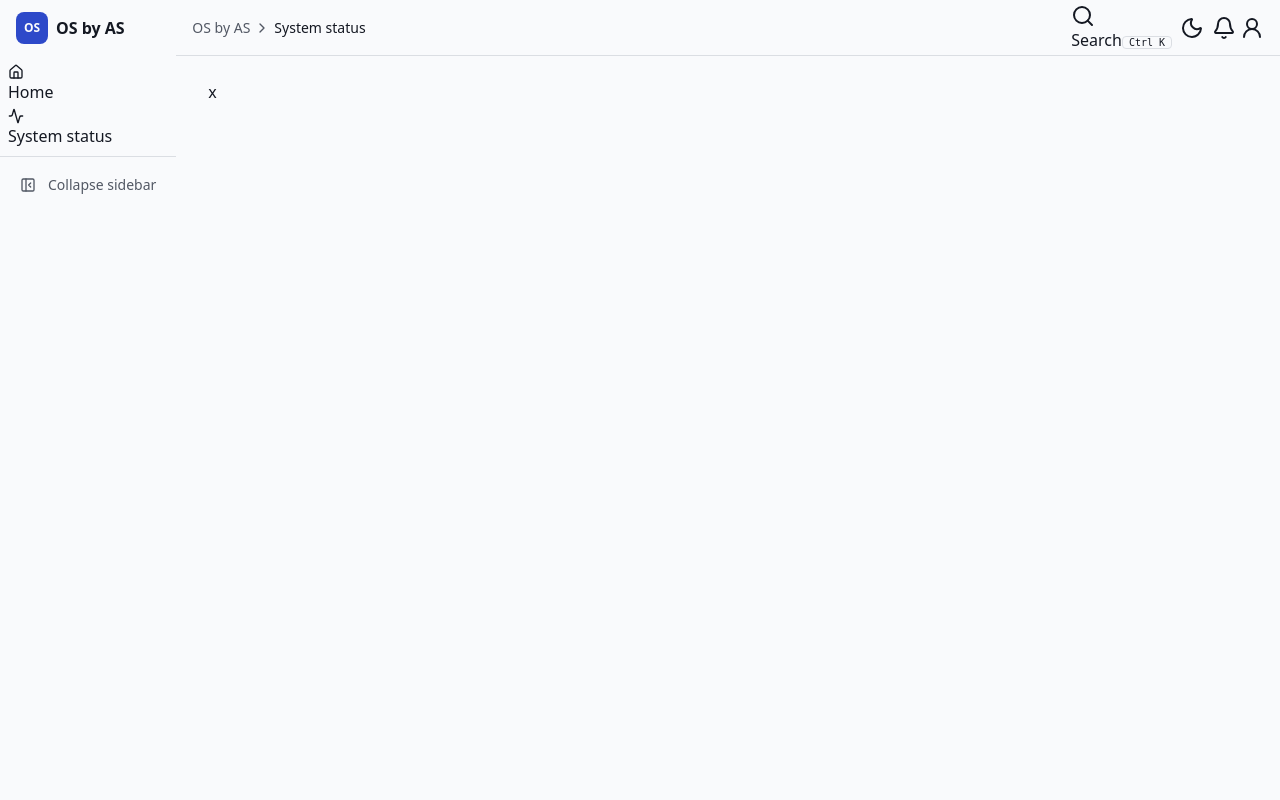
Test: AppShell › opens the command palette with Ctrl+K and navigates on select
Type keys "{Control>}k{/Control}"
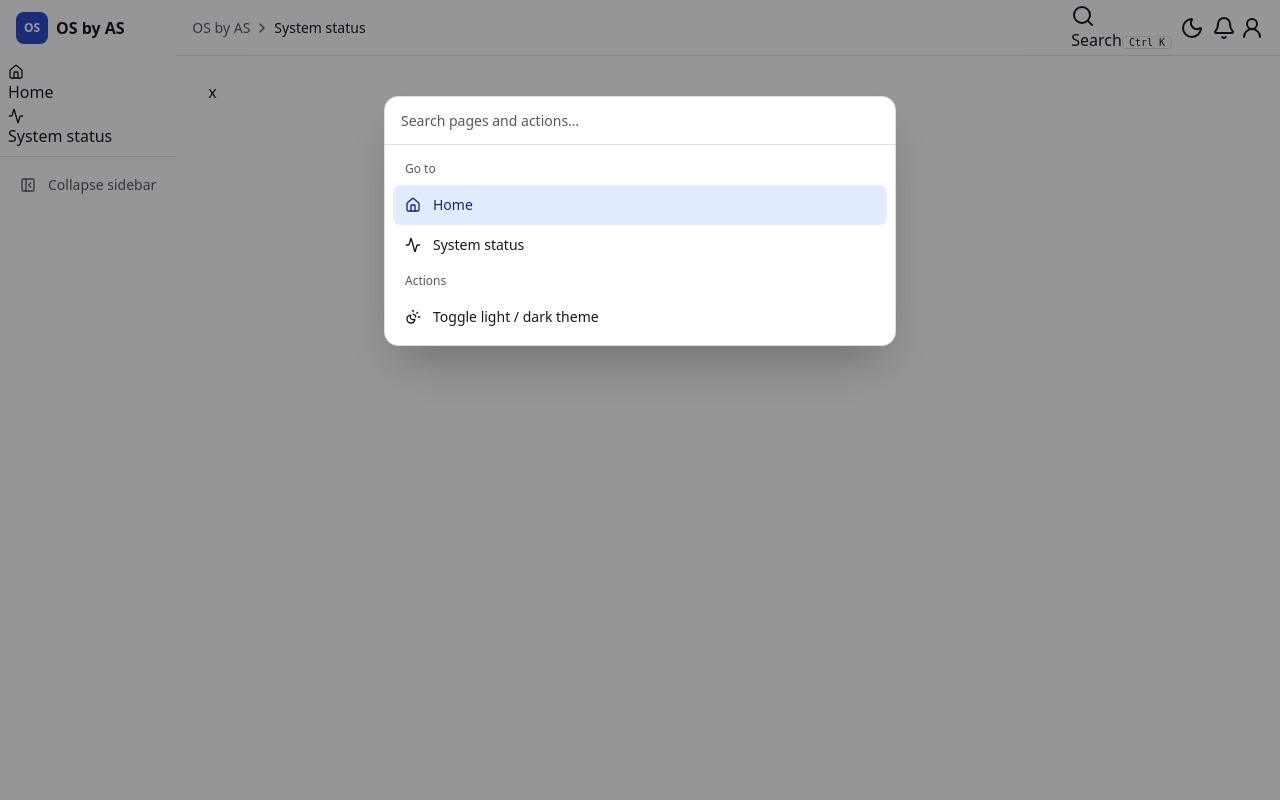
Type "home" into the dropdown at (640, 121), box [385,97,895,145]
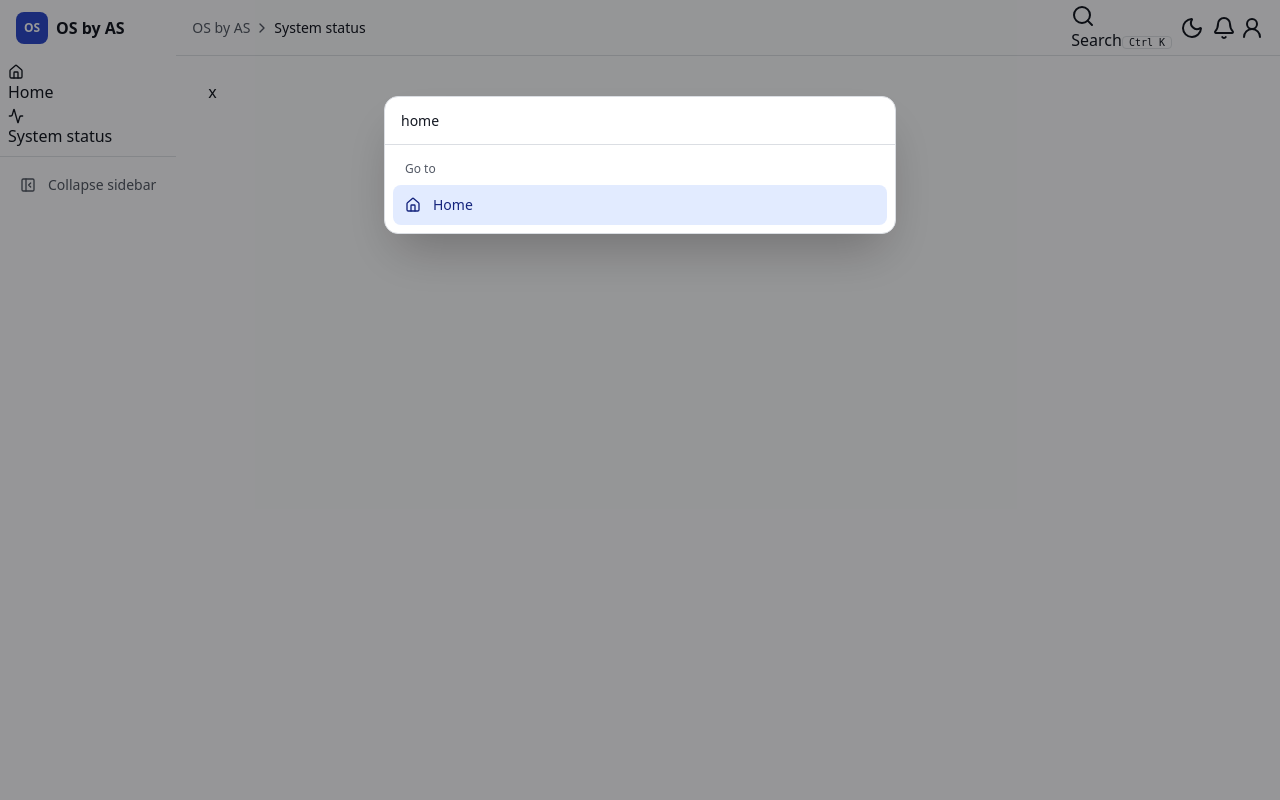
Press Enter
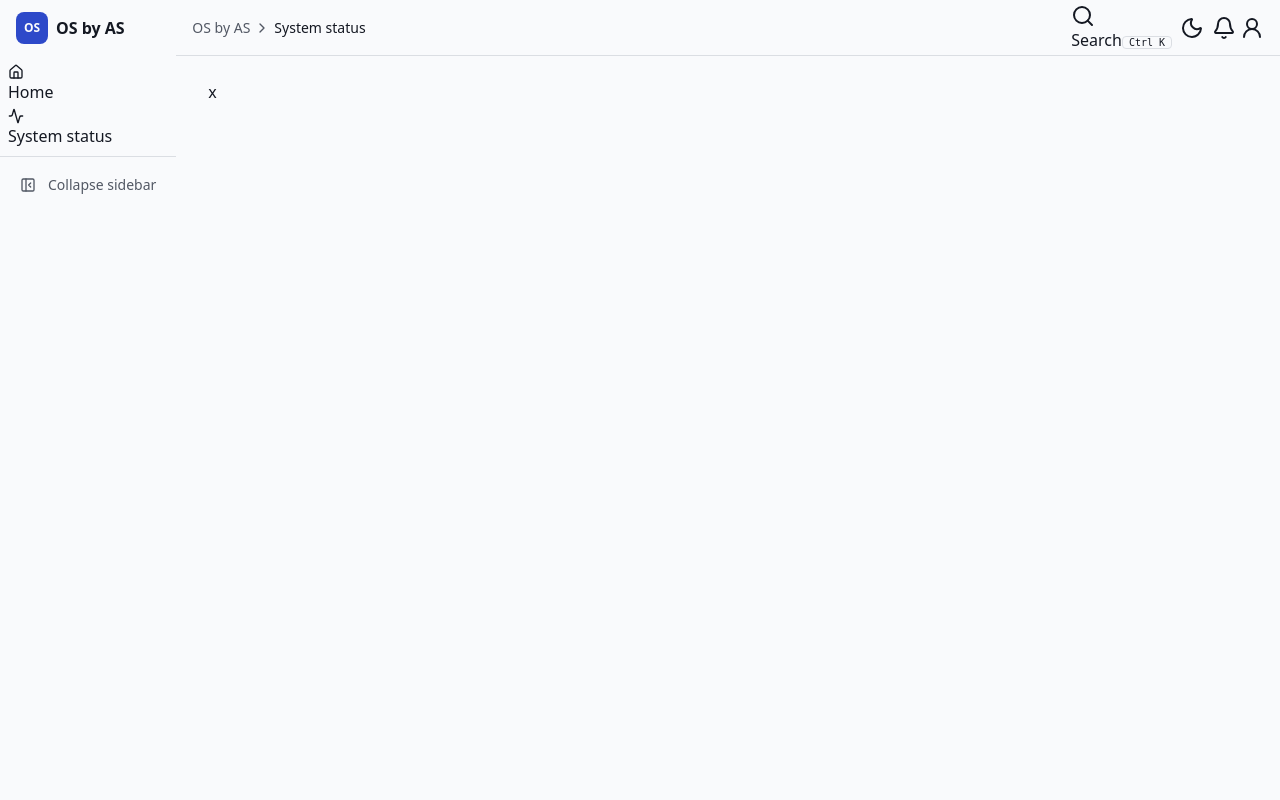
Expected: the dialog is gone
